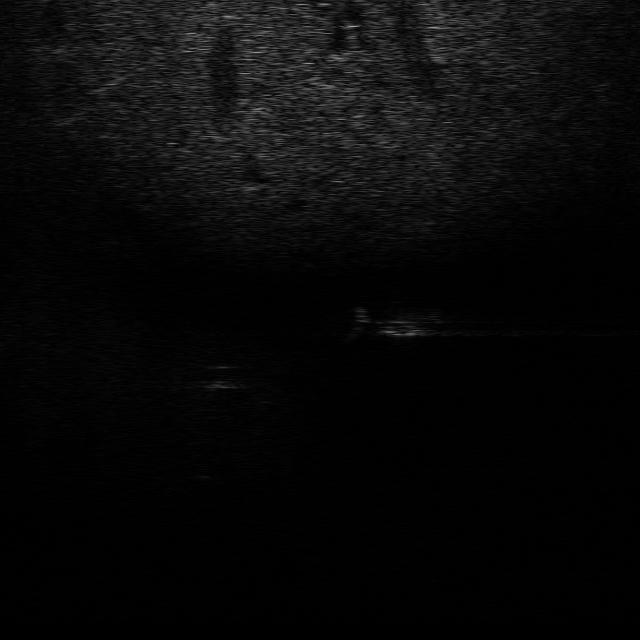ball: (198, 360, 252, 392)
human body: (341, 303, 445, 341)
